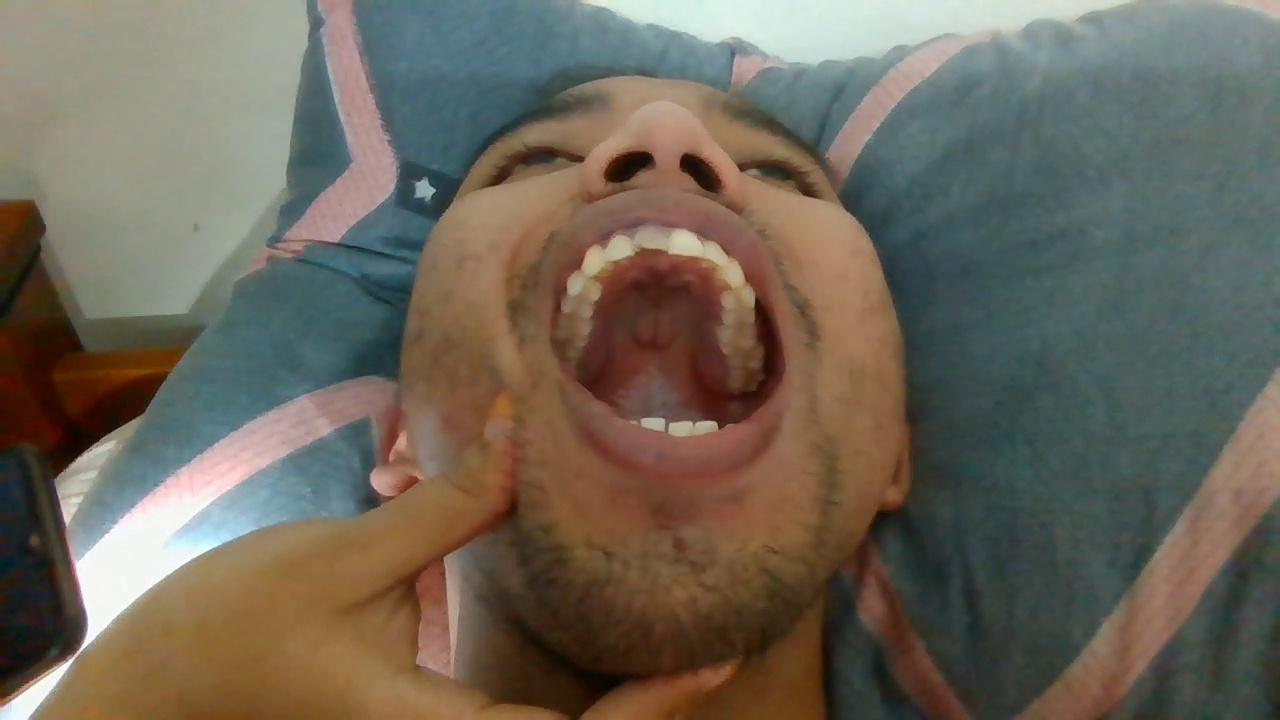1st Molar: (556, 314, 593, 346), (716, 325, 758, 350)
1st Premolar: (566, 271, 601, 298), (719, 285, 756, 308)
2nd Molar: (726, 347, 764, 371)
2nd Premolar: (560, 294, 595, 316), (721, 308, 755, 326)
3rd Molar: (727, 372, 766, 394)
Canine: (581, 244, 611, 275), (718, 258, 746, 288)
Central Incisor: (668, 224, 705, 258), (632, 221, 668, 254), (640, 415, 666, 433), (668, 419, 693, 436)
Lateral Incisor: (603, 233, 632, 259), (705, 239, 728, 265), (694, 417, 719, 436)
